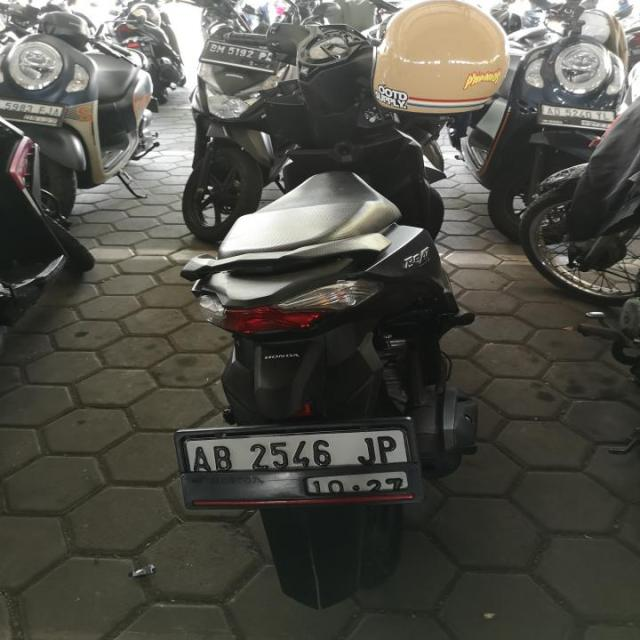License Plate: (183, 424, 417, 502), (197, 37, 281, 74), (536, 101, 618, 132), (0, 94, 67, 128)
